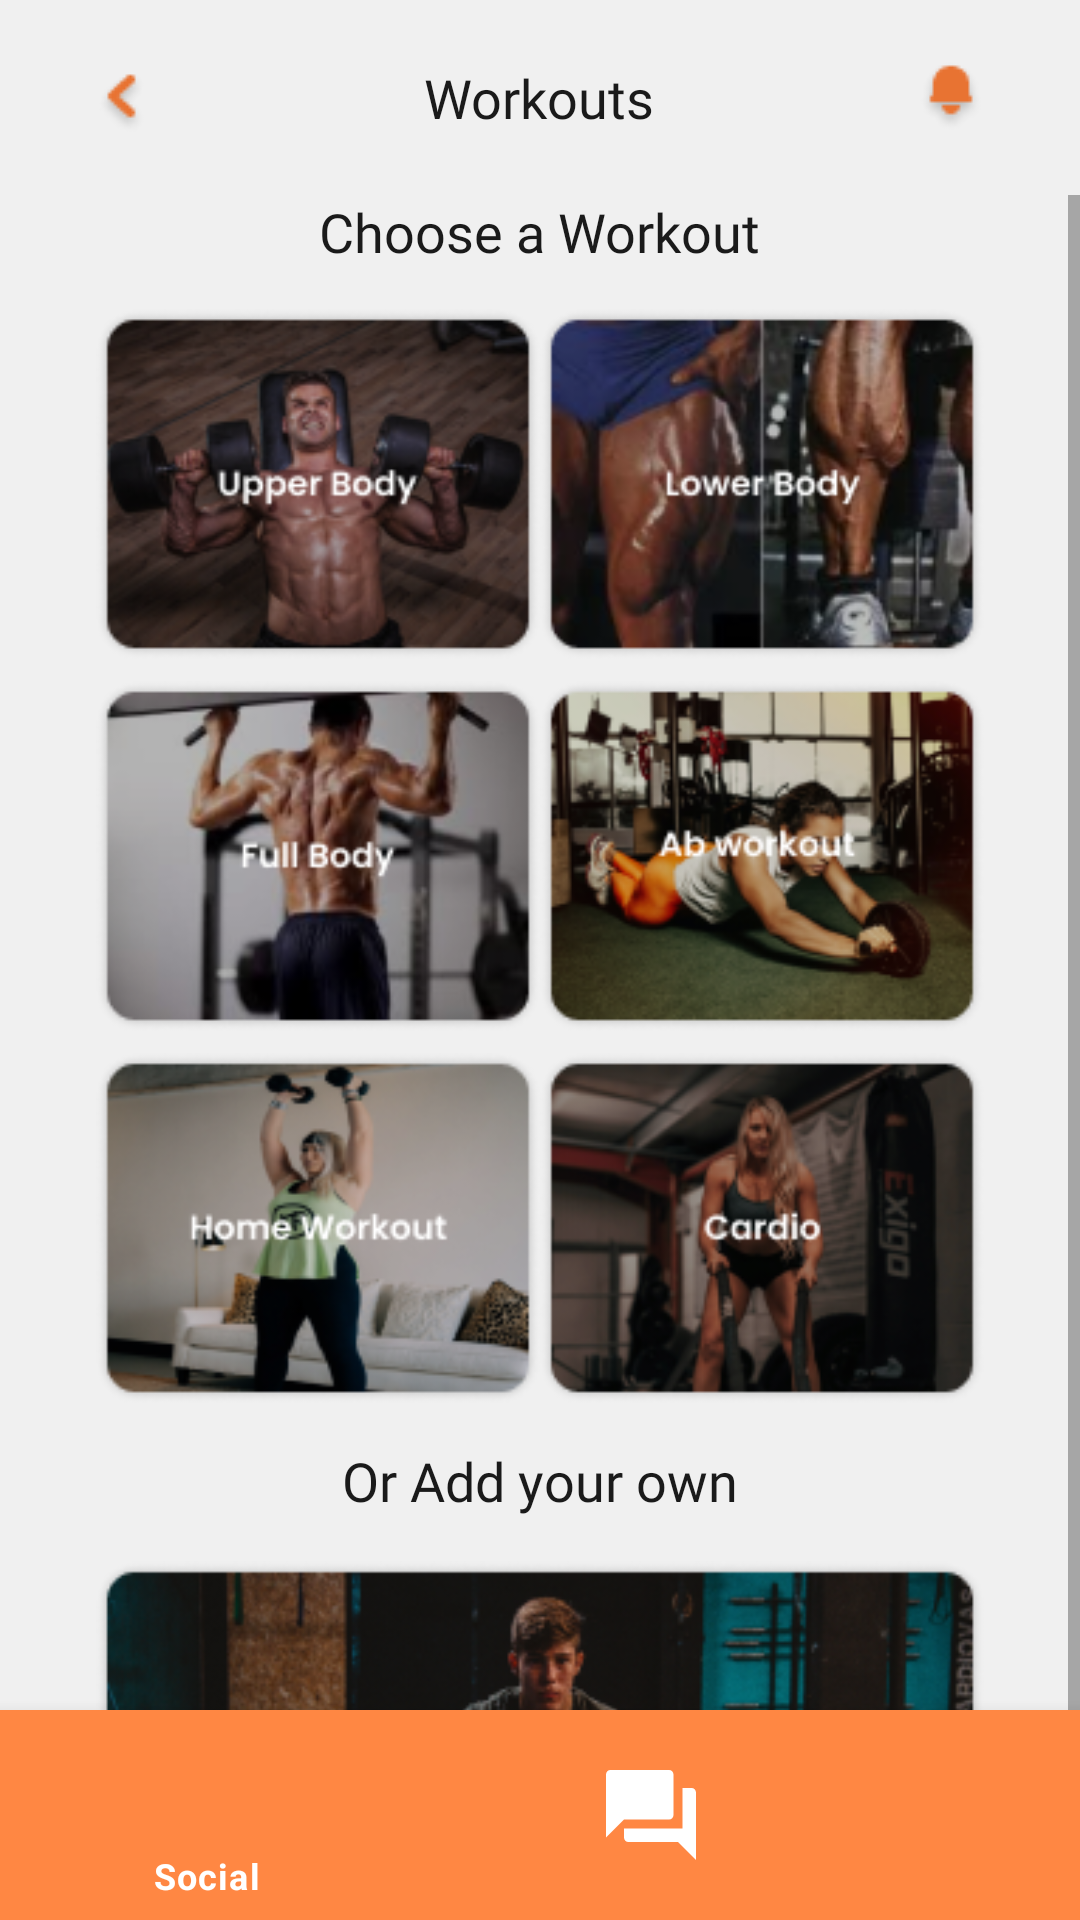

Screen size 1080px x 1920px. Icon name, then its box in pixels as (x1, y1, x2, y2):
Back: (107, 74, 136, 120)
Notify: (929, 65, 973, 118)
